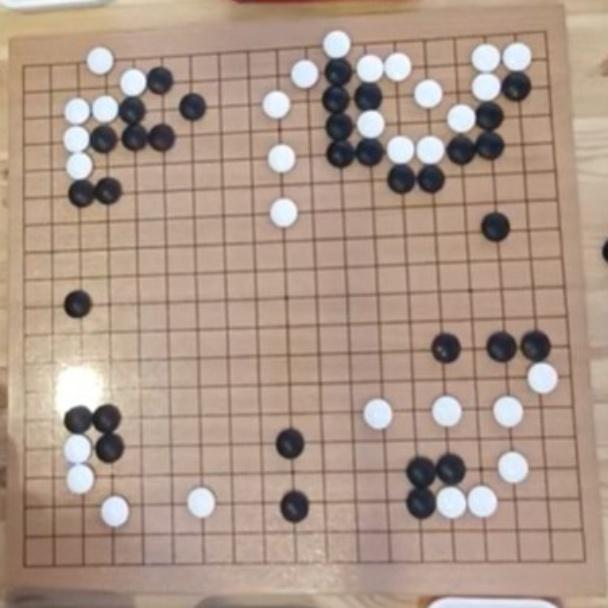corners: (526, 5, 559, 57), (10, 40, 40, 88), (572, 538, 600, 580), (7, 553, 47, 579)
